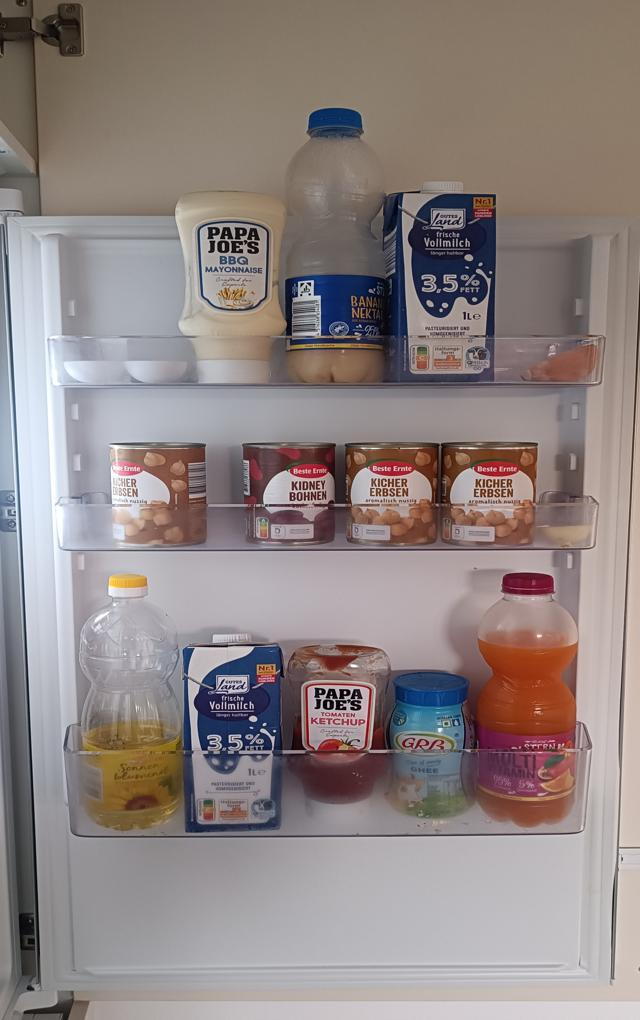bananajuice: (283, 106, 390, 387)
chickpeas: (108, 442, 210, 545), (343, 439, 439, 546), (442, 439, 538, 546)
ghee: (387, 671, 480, 818)
kidneybeans: (242, 440, 337, 546)
mayoniasie: (174, 189, 289, 385)
milk: (383, 179, 500, 387), (180, 632, 286, 833)
oil: (80, 572, 184, 827)
orangejuice: (476, 569, 581, 829)
tomatoketchup: (286, 642, 391, 832)
